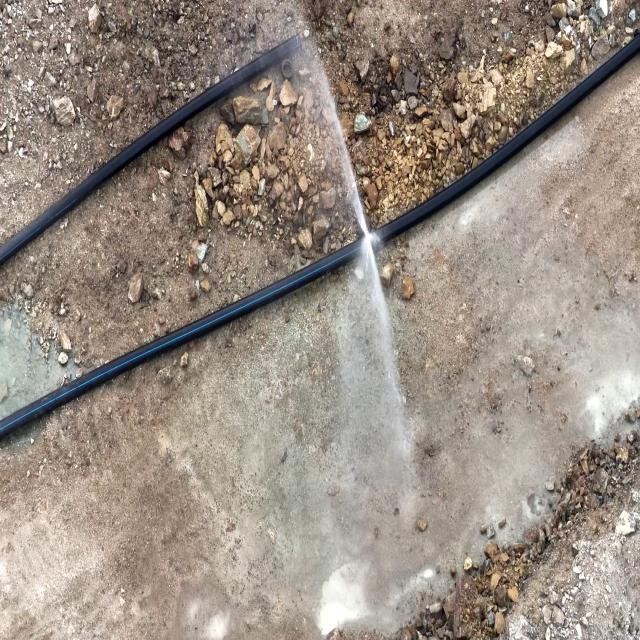leak: (306, 35, 403, 393)
